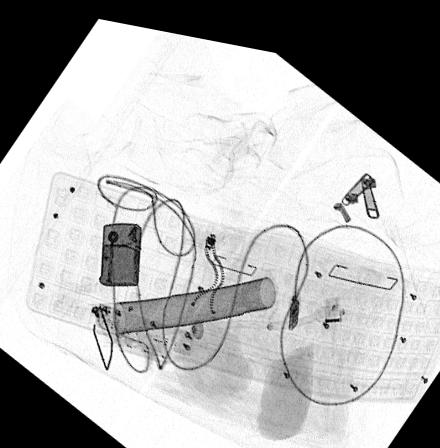Lighter: (97, 218, 141, 281)
